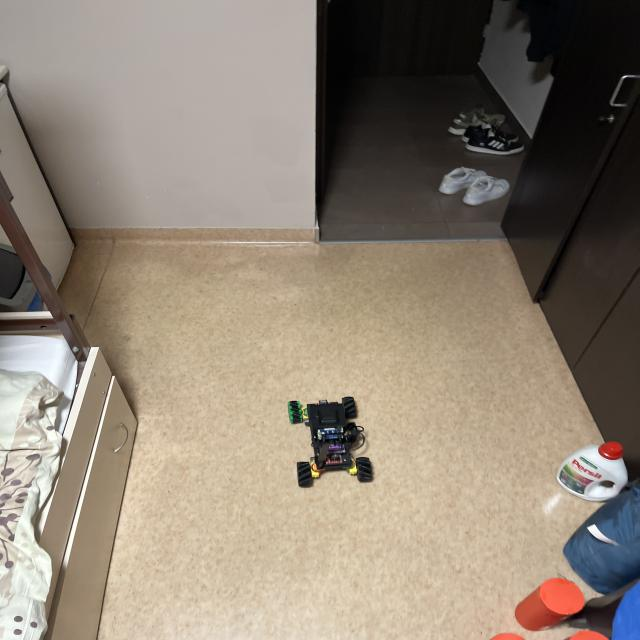robot: (288, 397, 373, 487)
